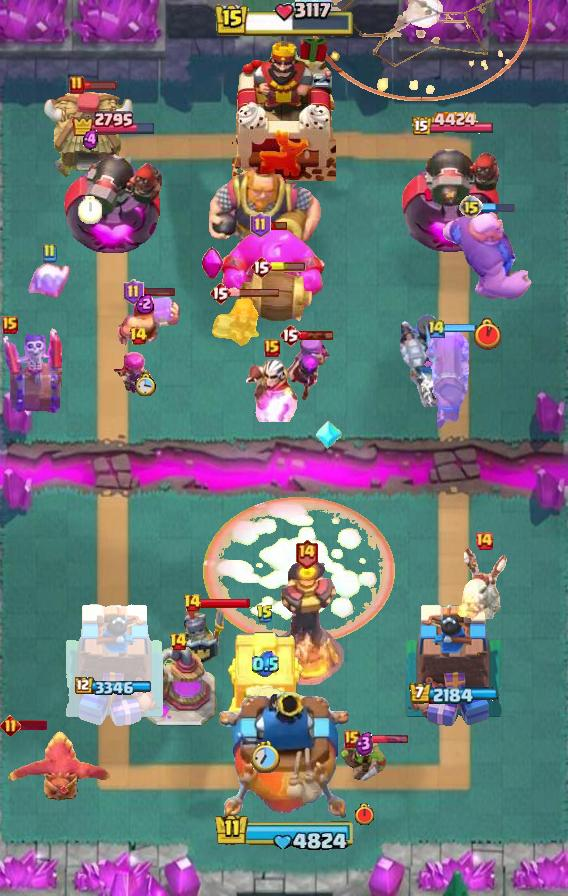balloon: (440, 210, 534, 302)
battle-healer: (424, 327, 470, 431)
bomb: (225, 629, 305, 723)
clock: (210, 812, 358, 854), (213, 0, 355, 40)
clone: (216, 226, 328, 298)
electro-dragon: (267, 559, 345, 685)
electro-spirit: (253, 650, 280, 677), (354, 731, 374, 756), (136, 294, 155, 315), (83, 129, 98, 151)
elixir: (252, 741, 280, 773), (475, 318, 501, 350), (78, 196, 102, 224), (353, 802, 375, 826), (135, 372, 156, 395)
emote: (199, 597, 251, 609), (229, 287, 281, 298), (357, 735, 409, 746), (298, 330, 334, 342), (481, 201, 516, 213), (82, 80, 118, 91), (140, 287, 176, 298), (270, 262, 306, 272), (11, 720, 47, 730), (444, 323, 478, 333), (268, 220, 288, 231)
evolution-symbol: (113, 348, 163, 398)
giant-skeleton: (207, 163, 323, 263)
guard: (309, 0, 532, 102)
hog-rider: (211, 297, 263, 351)
inferno-dragon: (397, 311, 457, 407)
king-tower: (219, 692, 349, 826), (232, 39, 336, 181)
mighty-miner: (110, 292, 180, 348)
mini-pekka: (455, 547, 513, 619)
mirror: (26, 260, 72, 302)
mother-witch: (0, 729, 110, 807)
pad_2: (315, 419, 343, 451)
pekka: (139, 646, 217, 728)
phoenix-big: (202, 495, 396, 646)
prince: (43, 90, 137, 180)
princess: (181, 604, 227, 666)
queen-tower: (61, 599, 166, 731), (402, 599, 507, 731)
rascal-girl: (278, 333, 332, 403)
selected: (71, 109, 157, 136), (411, 111, 495, 138), (408, 683, 498, 706), (74, 677, 154, 697)
skeleton-king: (244, 358, 300, 422)
skeleton-king-bar: (0, 324, 62, 414)
skeleton-king-skill: (201, 247, 225, 281)
text: (293, 539, 318, 570), (459, 195, 483, 219), (249, 212, 270, 238), (123, 279, 144, 305), (250, 255, 272, 279), (209, 281, 231, 305), (279, 323, 301, 347), (0, 715, 20, 737), (427, 317, 447, 338), (474, 531, 494, 551), (129, 326, 148, 346), (182, 593, 201, 613), (168, 632, 187, 652), (256, 604, 274, 624), (69, 75, 85, 95), (41, 243, 57, 263), (2, 316, 18, 334), (264, 339, 280, 357), (344, 730, 360, 748)
the-log: (236, 268, 316, 328)
tower-bar: (401, 138, 505, 256), (64, 138, 164, 256)
zap: (340, 736, 388, 782)
